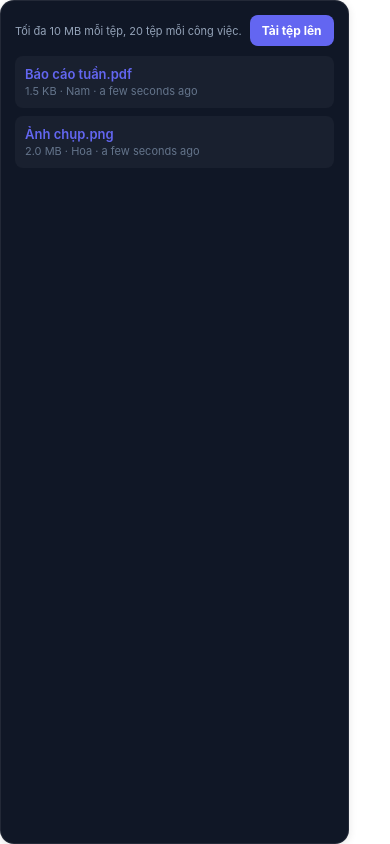
Scenario: chọn tệp rồi gửi lên, tệp mới đứng đầu danh sách
Expected: the text "Báo cáo tuần.pdf" is shown, [25,66,132,82]
Click the text "Tải tệp lên".
click(292, 30)  # box [262,23,322,38]
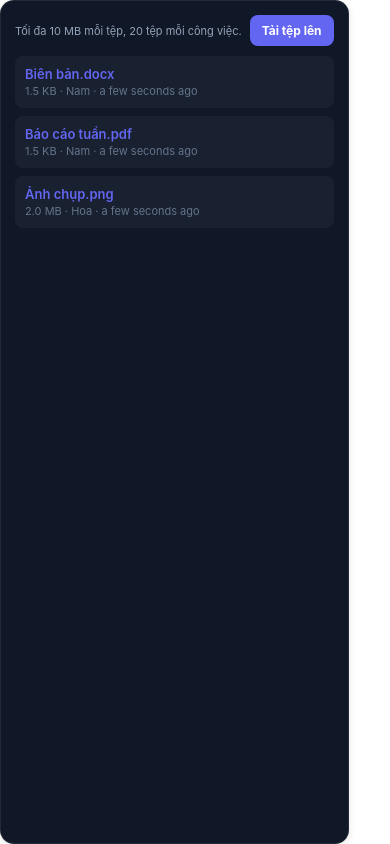
Expected: the text "Biên bản.docx" is shown, [25,66,114,82]
